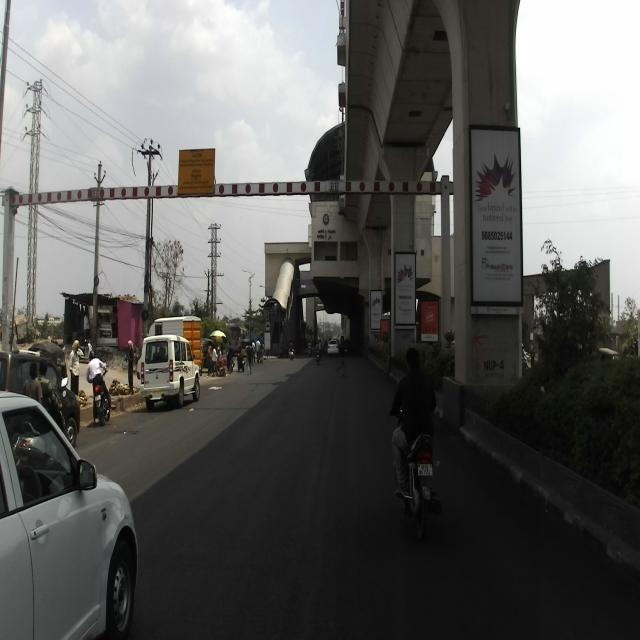Car_Maruti-Suzuki: (0, 390, 139, 640), (0, 347, 80, 449)
Car_TATA: (139, 331, 200, 411)
motorcycle_Honda: (387, 405, 442, 543)
